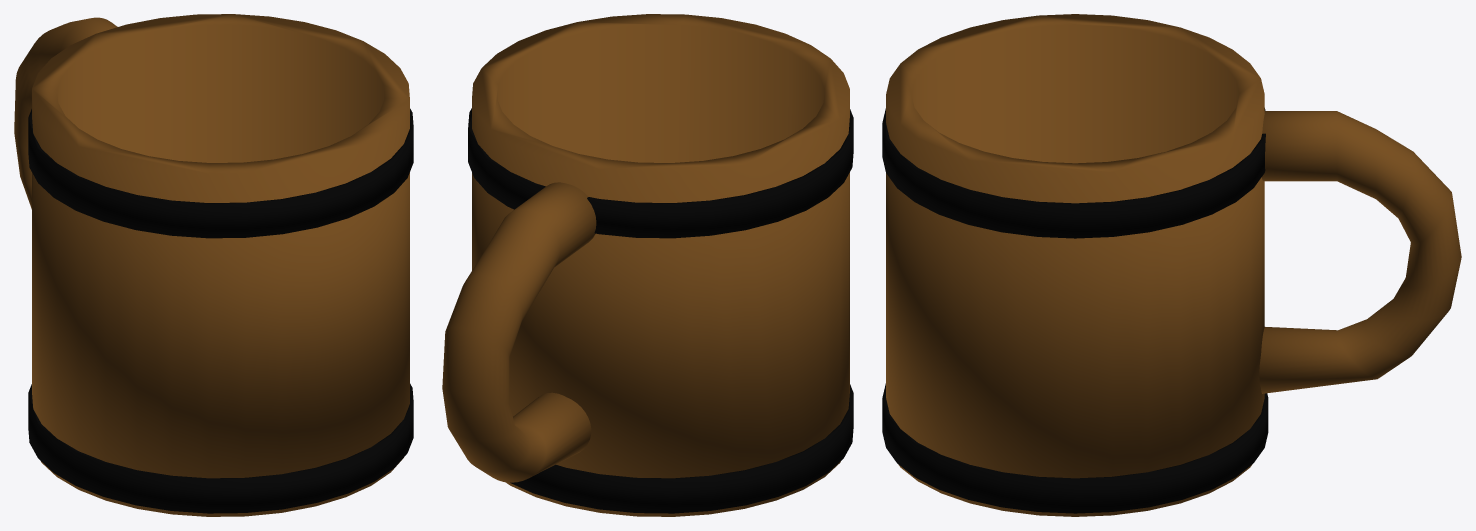
Rendered from WATERmug.glb.
3 views of the same model, side by side, from view 1: azimuth 30°, elevation 25°; view 2: azimuth 150°, elevation 25°; view 3: azimuth 270°, elevation 25° (orthographic).
Visible parts, largest first — view 1: Mug; view 2: Mug; view 3: Mug.
Boxes of the visible parts, x1,y1,x2,y2 form: Mug: [14, 14, 413, 516]; Mug: [442, 14, 853, 516]; Mug: [882, 14, 1461, 516].
Size of the model in its own units: 1.37 by 1.34 by 2.05.
